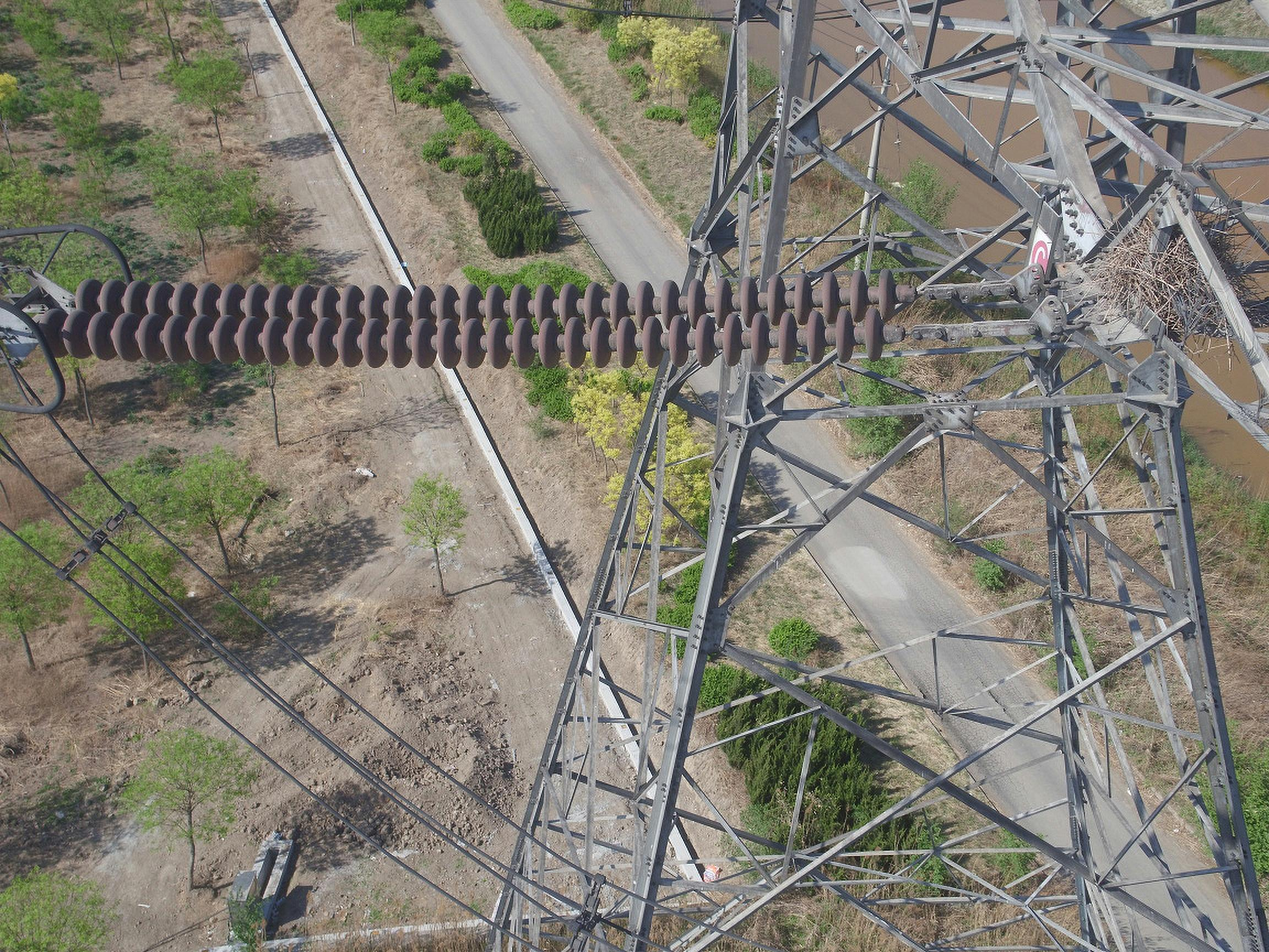insulator: (34, 260, 905, 373)
